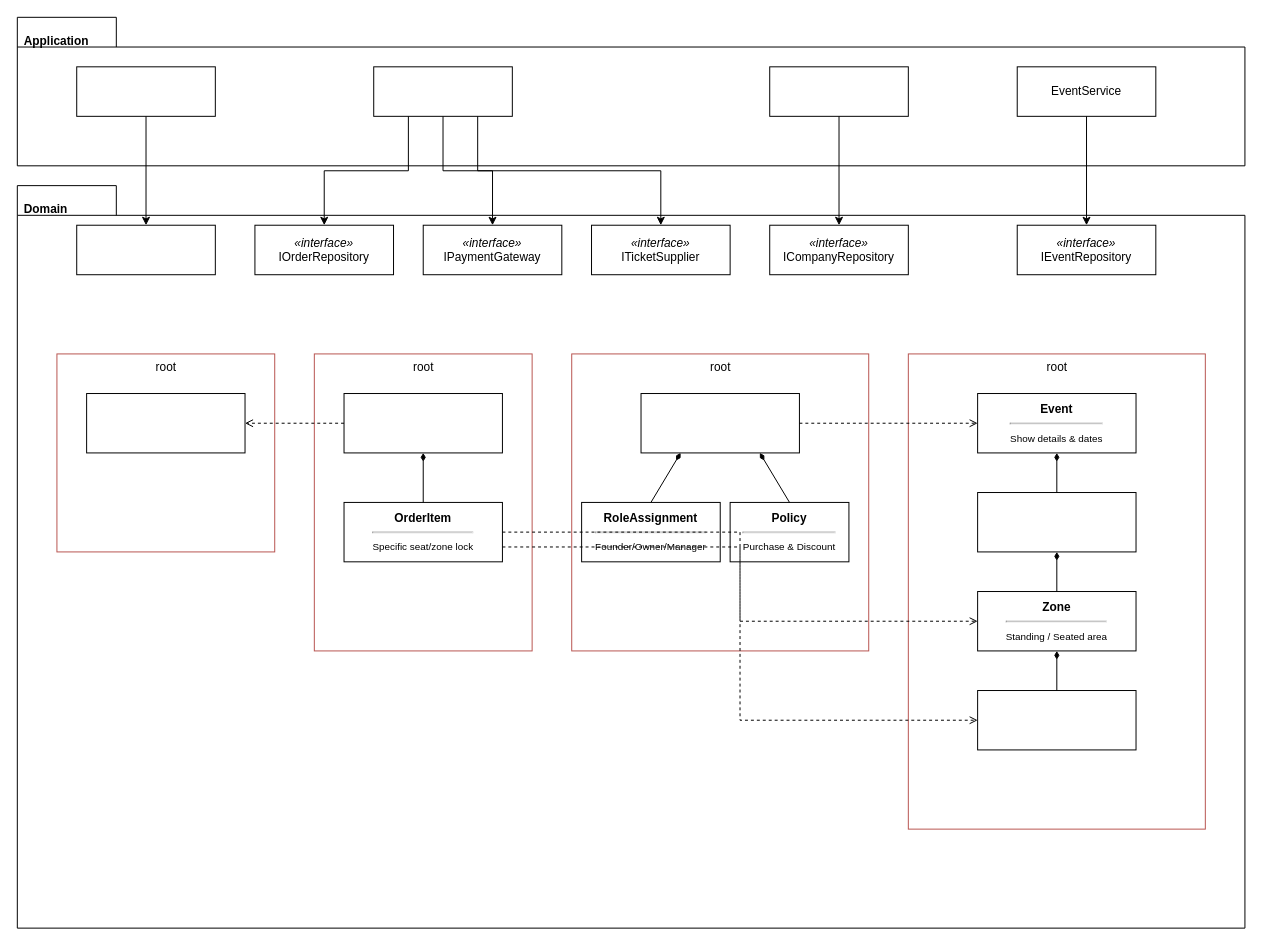
Some shapes in this 1262 by 945 pixel diagram are drawn without their labels. The shapes that lost their labels are listed below. From the top down, each one's centre as x and y in pixels, then its label:
point (145, 91): UserService
point (442, 91): OrderService
point (838, 91): CompanyService
point (145, 249): «interface» IUserRepository
point (165, 423): UserSession Manages visitor state
point (422, 423): ActiveOrder Holds unfulfilled tickets
point (719, 423): ProductionCompany Event organizer entity
point (1056, 522): VenueMap Logical seating layout
point (1056, 720): Seat Specific marked chair
